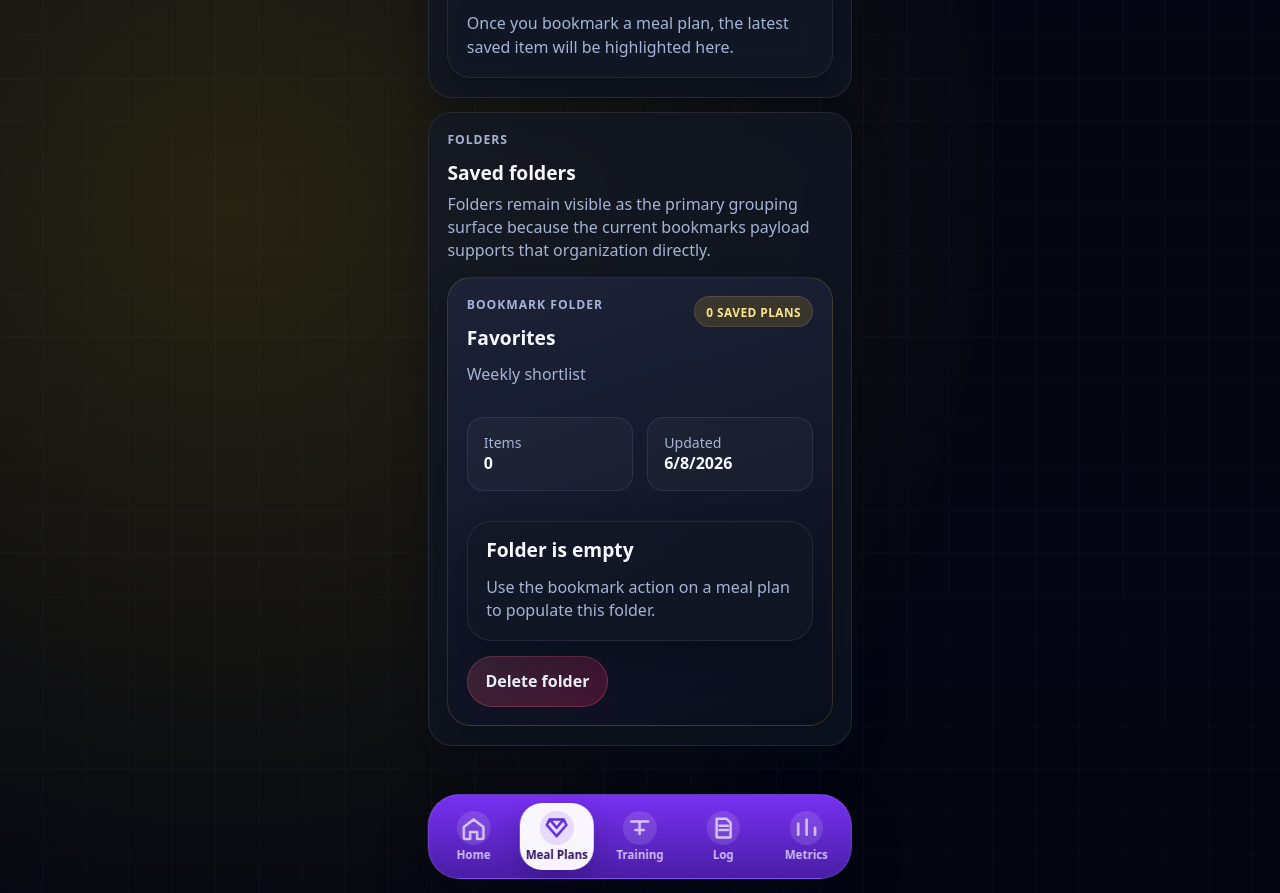
Scenario: ClientBookmarksPage mobile experience › preserves folder deletion through the existing bookmark-folder DELETE route and confirm step
The image size is (1280, 893).
(page scrolled)
Click the button "Delete folder".
click(537, 681)  # box top-left (467, 656), bottom-right (608, 707)
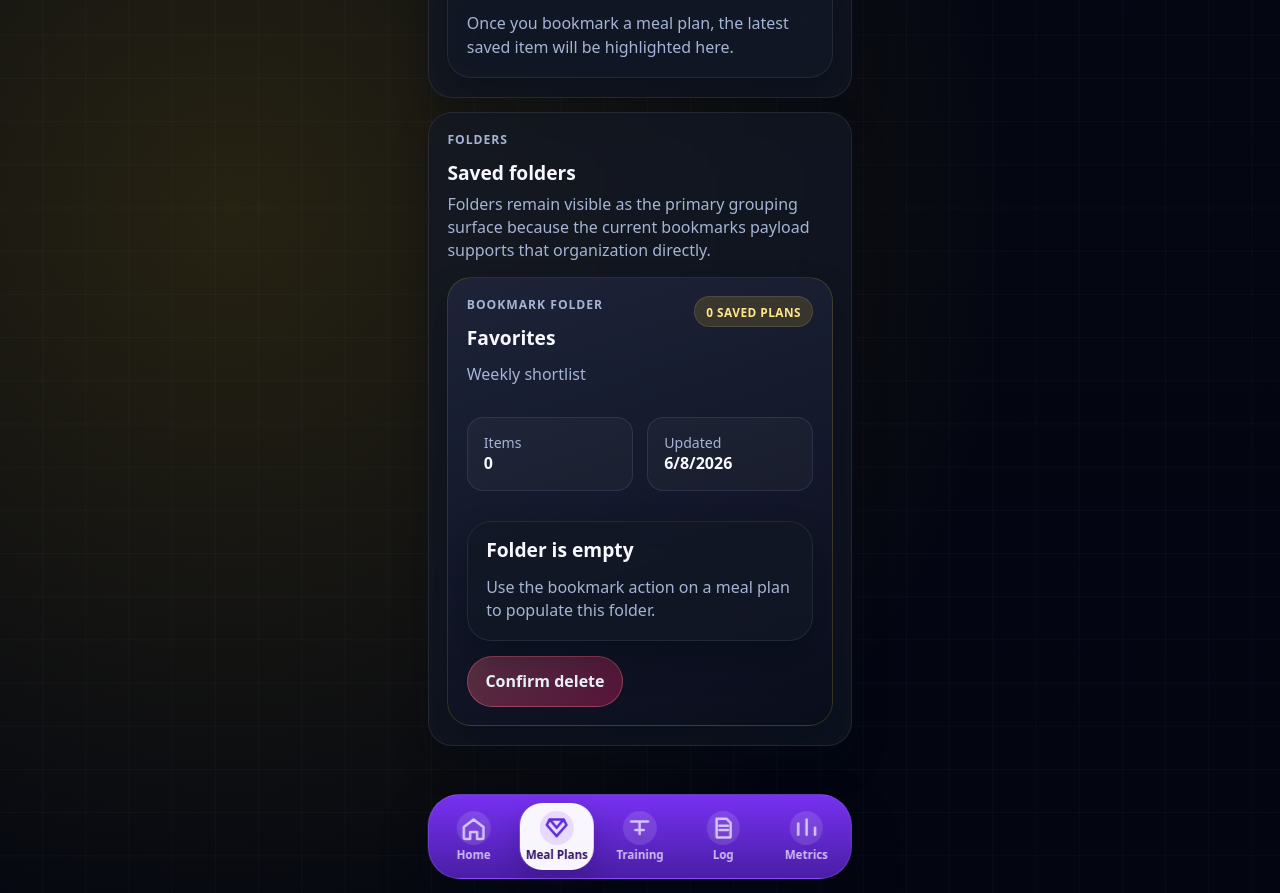
Check: the button "Confirm delete" is shown
Click the button "Confirm delete".
click(545, 681)  # box top-left (467, 656), bottom-right (623, 707)
(page scrolled)
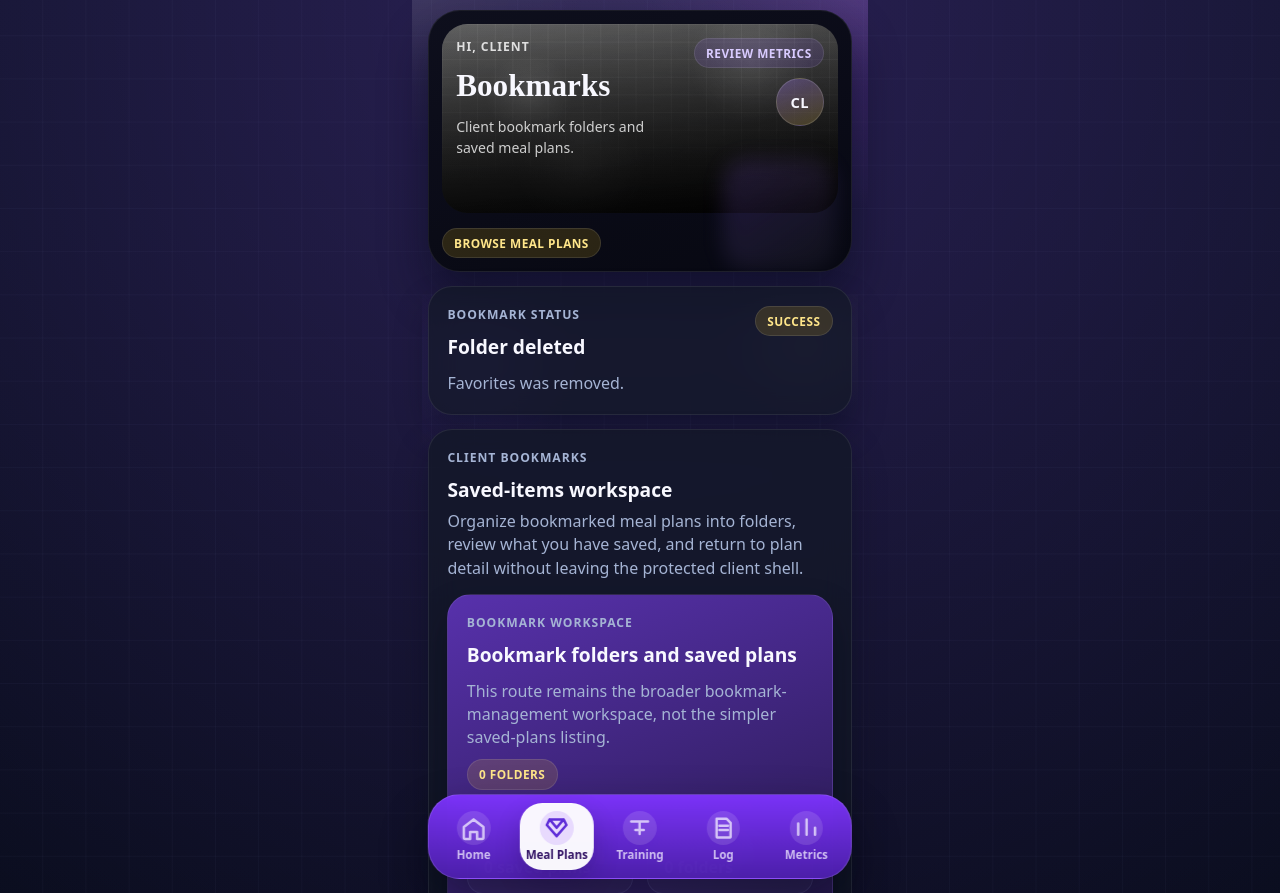
Check: the heading "Folder deleted" is shown, box top-left (447, 333), bottom-right (585, 360)
